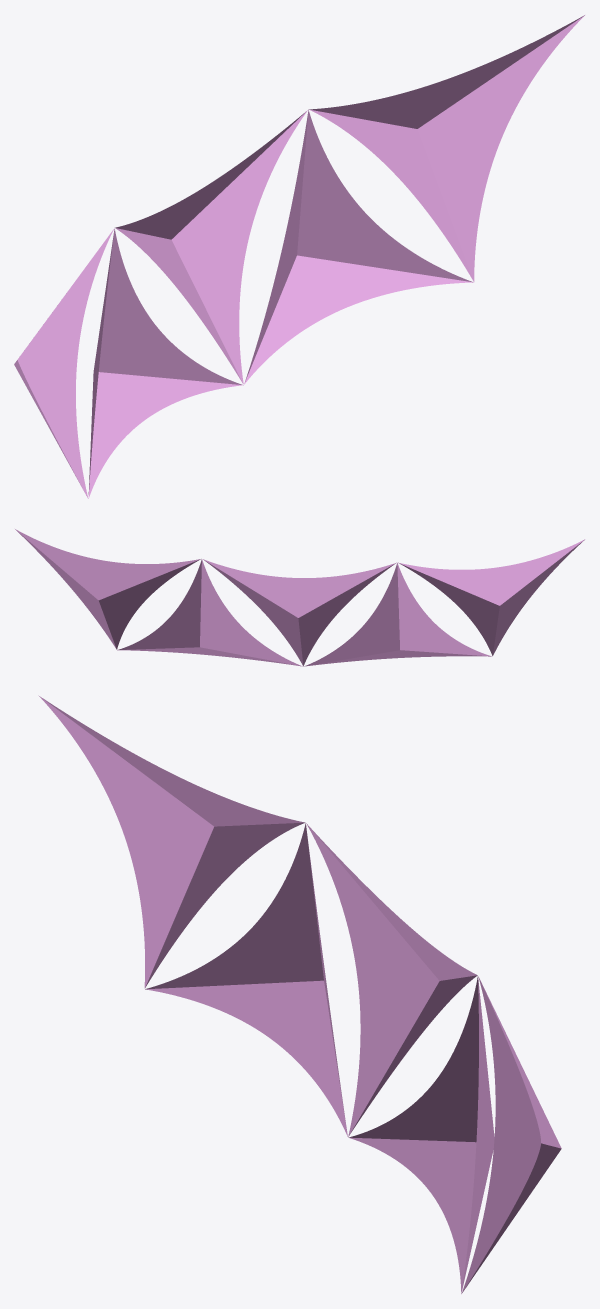
The model's file is TYPE18-4.glb.
3 views of the same model, one above another, from view 1: azimuth 30°, elevation 25°; view 2: azimuth 150°, elevation 25°; view 3: azimuth 270°, elevation 25° (orthographic). The views are drawn at different scales.
Visible parts, largest first — view 1: TYPE18-4 (×13); view 2: TYPE18-4 (×15); view 3: TYPE18-4 (×14).
Boxes of the visible parts, <box> form: TYPE18-4 (×13): <box>17,15,584,498</box>; TYPE18-4 (×15): <box>15,529,585,666</box>; TYPE18-4 (×14): <box>38,695,561,1293</box>.
Bounding box in the file's own units: 22.12 × 5.8 × 11.24.
